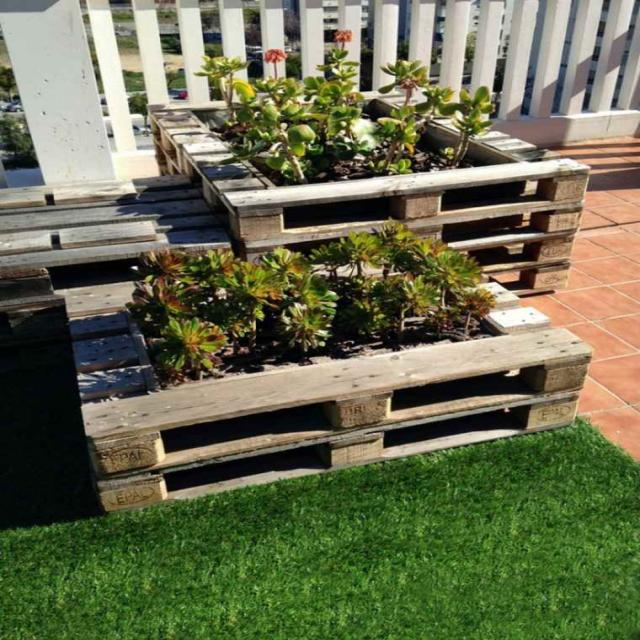Palette: (54, 236, 588, 519), (162, 95, 596, 302), (0, 191, 237, 320)
